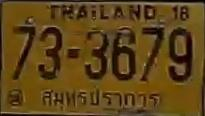3: (37, 26, 61, 79), (84, 28, 108, 78)
6: (111, 28, 135, 80)
7: (140, 26, 164, 81), (11, 25, 35, 79)
9: (168, 26, 192, 80)
SPK: (38, 83, 163, 115)
